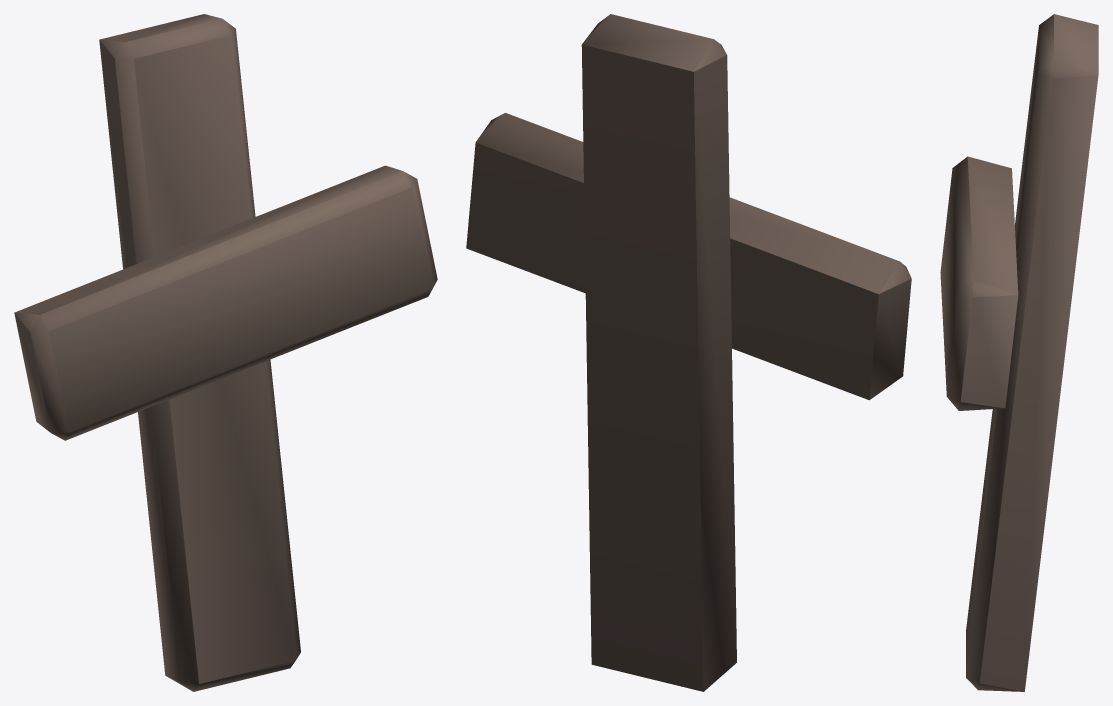
Rendered from d_kaykit_croix_a.glb.
The picture shows the model from 3 angles, left to right: view 1: azimuth 30°, elevation 25°; view 2: azimuth 150°, elevation 25°; view 3: azimuth 270°, elevation 25°; orthographic projection. The views are drawn at different scales.
Parts seen in each view (by area): view 1: d_kaykit_croix_a; view 2: d_kaykit_croix_a; view 3: d_kaykit_croix_a.
Part boxes in pixels (box(x1,y1,x2,y2)): d_kaykit_croix_a: box(14, 14, 437, 691); d_kaykit_croix_a: box(466, 14, 911, 691); d_kaykit_croix_a: box(940, 14, 1098, 691).
Bounding box in the file's own units: 0.8059 × 1.2 × 0.2782.
1 material, 1 textured.
